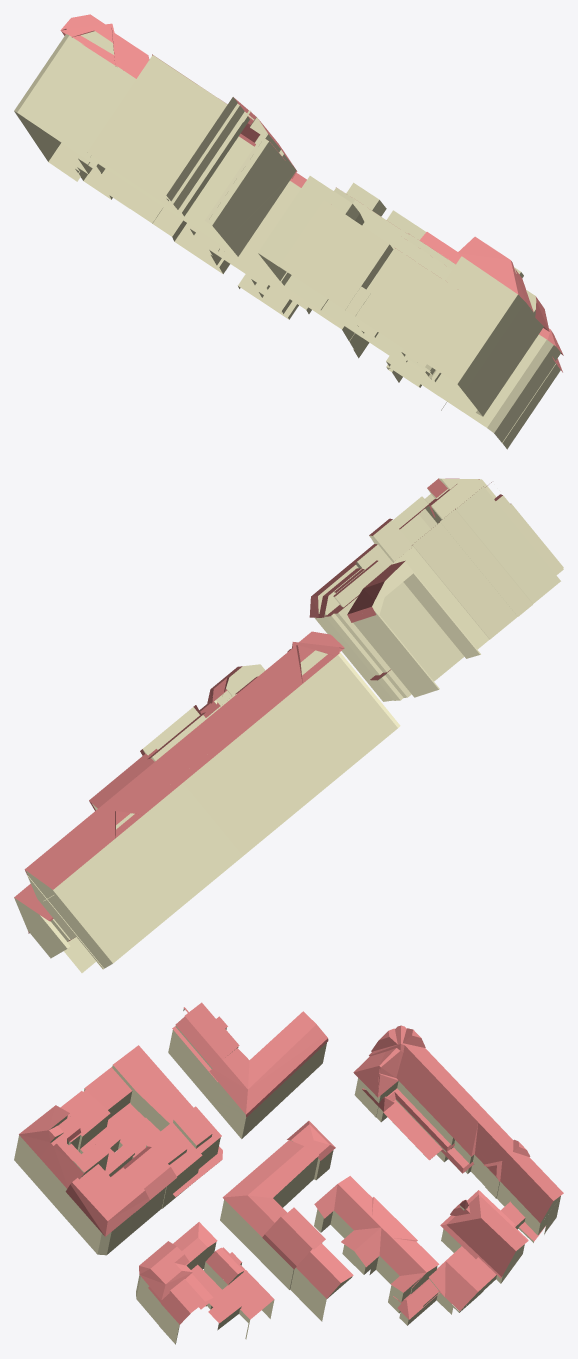
File: tile_019.glb
3 renders of one model, top to bottom at view 1: azimuth 30°, elevation 25°; view 2: azimuth 150°, elevation 25°; view 3: azimuth 270°, elevation 25°, orthographic. The views are drawn at different scales.
Visible parts, largest first — view 1: Batched_Building_ID_D85D5040-44D5-49CF-B1A6-4B774F2D1482, Batched_Building_ID_0C45F08C-A017-4677-9C60-E78DC66E93AB; view 2: Batched_Building_ID_D85D5040-44D5-49CF-B1A6-4B774F2D1482, Batched_Building_ID_0C45F08C-A017-4677-9C60-E78DC66E93AB; view 3: Batched_Building_ID_0C45F08C-A017-4677-9C60-E78DC66E93AB, Batched_Building_ID_D85D5040-44D5-49CF-B1A6-4B774F2D1482.
Part boxes in pixels (bbox=[...]): Batched_Building_ID_D85D5040-44D5-49CF-B1A6-4B774F2D1482: bbox=[14, 31, 560, 449]; Batched_Building_ID_0C45F08C-A017-4677-9C60-E78DC66E93AB: bbox=[60, 14, 563, 372]; Batched_Building_ID_D85D5040-44D5-49CF-B1A6-4B774F2D1482: bbox=[14, 478, 563, 972]; Batched_Building_ID_0C45F08C-A017-4677-9C60-E78DC66E93AB: bbox=[14, 478, 510, 941]; Batched_Building_ID_0C45F08C-A017-4677-9C60-E78DC66E93AB: bbox=[19, 1002, 563, 1324]; Batched_Building_ID_D85D5040-44D5-49CF-B1A6-4B774F2D1482: bbox=[14, 1009, 560, 1344].
Size of the model in its own units: 101 by 99.82 by 191.
